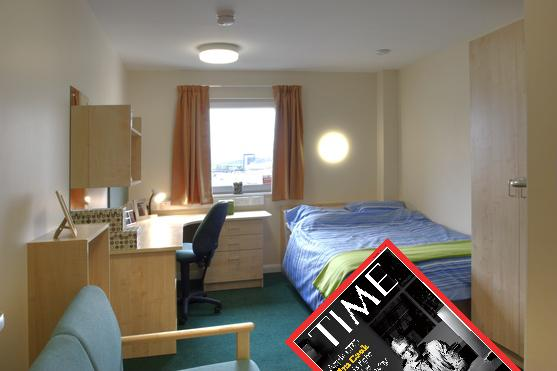times: (284, 238, 520, 371)
